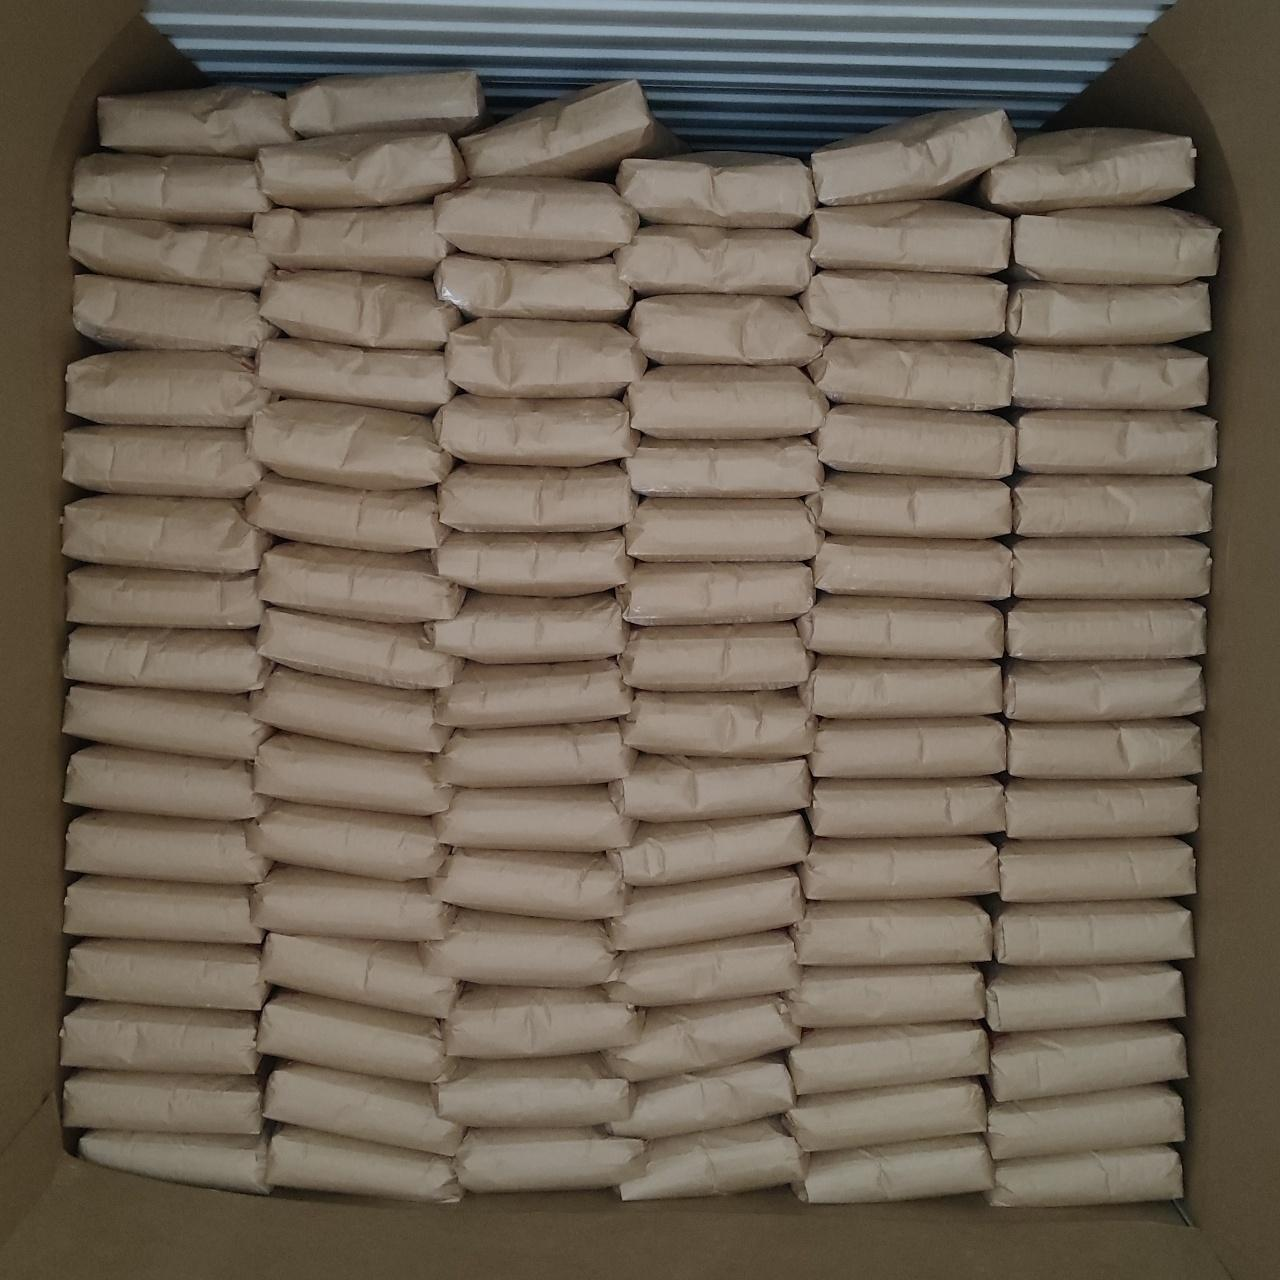sack: (459, 80, 676, 176), (974, 128, 1194, 215), (812, 110, 1014, 204), (248, 400, 452, 486), (266, 1062, 462, 1152), (260, 992, 454, 1078), (260, 542, 462, 622), (250, 668, 448, 750), (254, 734, 452, 813), (606, 996, 798, 1078), (64, 496, 270, 572), (436, 178, 638, 256), (74, 274, 275, 352), (264, 934, 458, 1014), (260, 608, 458, 686), (610, 870, 802, 949), (445, 320, 646, 396), (258, 132, 464, 206), (260, 272, 459, 348), (70, 212, 270, 288), (66, 352, 274, 424), (64, 685, 270, 758), (250, 802, 445, 878), (252, 866, 452, 940), (66, 745, 268, 818), (246, 476, 445, 550), (1014, 206, 1218, 278), (626, 366, 826, 438), (813, 406, 1014, 478), (990, 1024, 1186, 1098), (258, 338, 454, 411), (620, 1121, 806, 1198), (608, 1058, 794, 1136), (618, 154, 813, 226), (422, 910, 614, 983), (100, 86, 294, 158), (425, 592, 626, 662), (988, 1085, 1182, 1158), (66, 812, 268, 881), (270, 1126, 459, 1200), (64, 425, 263, 496), (802, 270, 1006, 338), (629, 294, 826, 365), (610, 813, 806, 884), (608, 932, 798, 1005), (808, 202, 1010, 270), (787, 1080, 982, 1150), (434, 1056, 629, 1126), (256, 204, 448, 275), (436, 394, 636, 462), (810, 338, 1008, 406), (68, 940, 266, 1008), (790, 1024, 988, 1092), (66, 626, 270, 692), (617, 226, 813, 294), (433, 850, 628, 918), (444, 986, 640, 1054), (62, 1002, 258, 1070), (74, 154, 270, 222), (986, 964, 1182, 1030), (66, 876, 260, 942), (622, 690, 813, 758), (794, 1136, 990, 1201), (610, 756, 810, 821), (436, 660, 629, 726), (992, 900, 1192, 964), (434, 530, 629, 594), (438, 722, 634, 787), (808, 472, 1010, 535), (794, 900, 990, 964), (798, 595, 1002, 656), (620, 624, 812, 688), (288, 70, 484, 134), (438, 464, 636, 526), (813, 536, 1012, 598), (64, 1070, 263, 1132), (436, 254, 629, 318), (998, 838, 1194, 900), (1005, 282, 1208, 342), (68, 566, 263, 628), (436, 787, 634, 847), (799, 656, 1000, 716), (1014, 410, 1214, 470), (1010, 538, 1210, 598), (618, 561, 812, 622), (1008, 346, 1206, 406), (456, 1128, 646, 1190), (626, 498, 822, 558), (787, 966, 982, 1026), (802, 838, 998, 898), (1012, 476, 1210, 535), (1006, 778, 1198, 838), (1006, 600, 1204, 658), (810, 778, 1005, 836), (990, 1148, 1180, 1206), (1005, 662, 1201, 719), (624, 438, 822, 493), (80, 1132, 270, 1190), (1006, 720, 1198, 776), (812, 719, 1005, 774)
